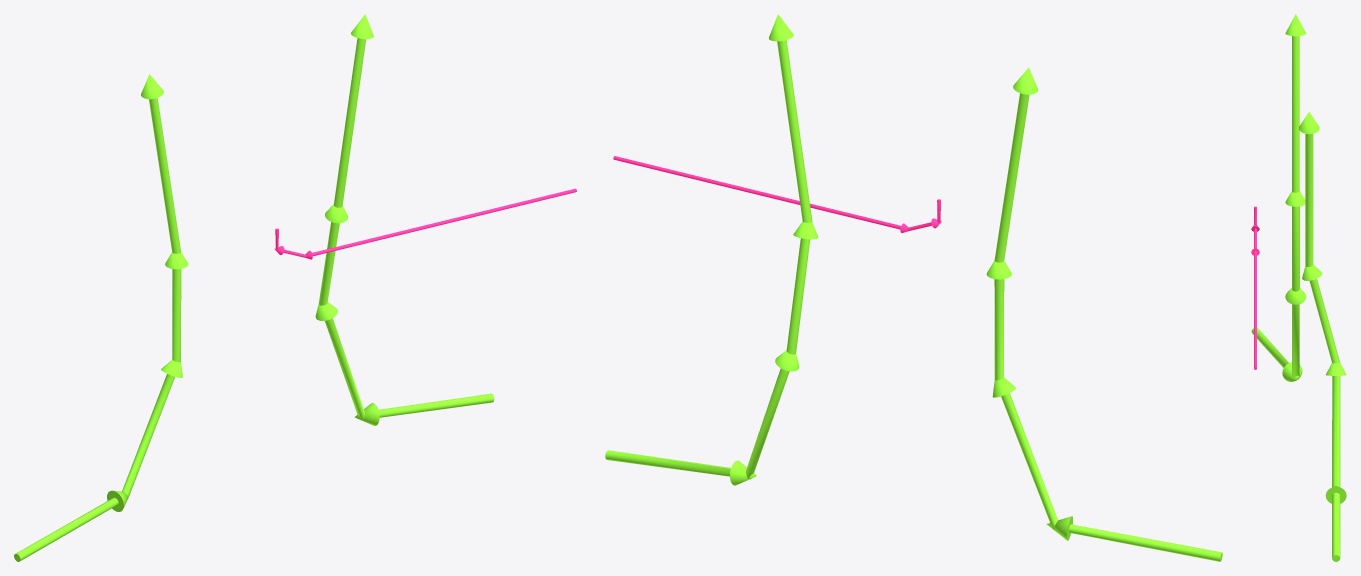
The model's file is cooling_tower_fan_flow.glb.
3 views of the same model, side by side, from view 1: azimuth 30°, elevation 25°; view 2: azimuth 150°, elevation 25°; view 3: azimuth 270°, elevation 25° (orthographic). The views are drawn at different scales.
Visible parts, largest first — view 1: air, air2, power; view 2: air, air2, power; view 3: air2, air, power.
Boxes of the visible parts, bbox=[...] form: air: bbox=[14, 74, 188, 561]; air2: bbox=[315, 14, 494, 425]; power: bbox=[274, 188, 576, 259]; air: bbox=[986, 67, 1222, 561]; air2: bbox=[605, 14, 818, 485]; power: bbox=[613, 156, 941, 232]; air2: bbox=[1299, 112, 1346, 561]; air: bbox=[1251, 14, 1306, 381]; power: bbox=[1251, 206, 1259, 369].
Bounding box in the file's own units: 4.31 × 3.19 × 0.7092.
